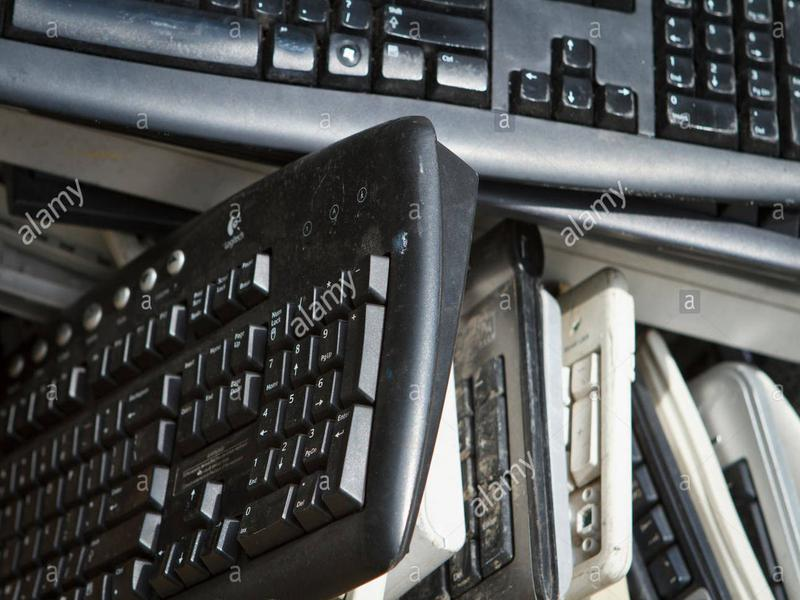keyboard: (2, 111, 480, 600), (11, 3, 800, 192)
